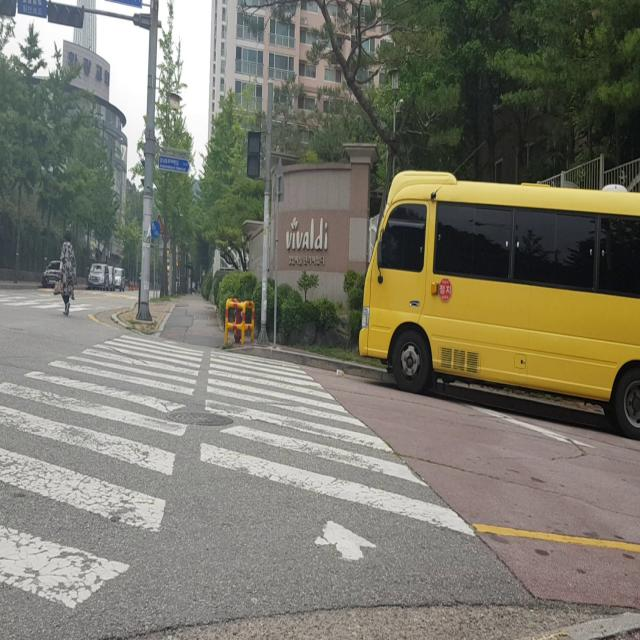횡단보도: (0, 332, 480, 614), (0, 290, 94, 319)
